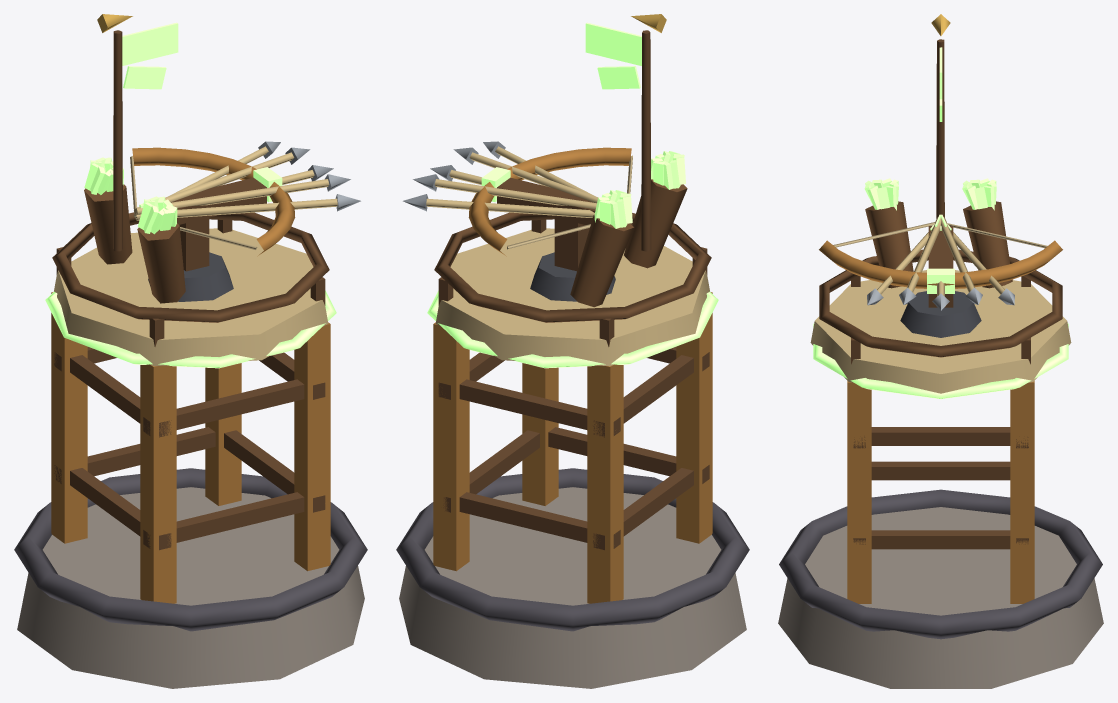
Rendered from tower_archer_arrowRain.glb.
3 renders of one model, left to right at view 1: azimuth 30°, elevation 25°; view 2: azimuth 150°, elevation 25°; view 3: azimuth 270°, elevation 25°, orthographic. The views are drawn at different scales.
Parts seen in each view (by area): view 1: base, deck, base_rim, post_wn, post_en, post_ws, rail, post_es, bow, beam_x_1_n, beam_x_0_n, deck_band (+17 smaller); view 2: base, deck, base_rim, post_ws, post_es, post_wn, rail, post_en, quiver_b, bow, beam_x_0_s, beam_x_1_s (+17 smaller); view 3: base, deck, base_rim, post_en, post_es, rail, bow, beam_z_0_e, beam_z_0_w, beam_z_1_e, swivel, deck_band (+7 smaller).
Boxes of the visible parts, <box> form: base: <box>17,487,364,688</box>; deck: <box>54,228,328,366</box>; base_rim: <box>14,468,367,631</box>; post_wn: <box>140,364,176,603</box>; post_en: <box>294,322,330,571</box>; post_ws: <box>51,292,87,543</box>; rail: <box>52,212,329,322</box>; post_es: <box>205,363,241,505</box>; bow: <box>132,147,295,256</box>; beam_x_1_n: <box>143,379,304,435</box>; beam_x_0_n: <box>143,492,304,548</box>; deck_band: <box>45,290,336,368</box>; base: <box>399,487,746,688</box>; deck: <box>435,228,709,366</box>; base_rim: <box>396,468,749,631</box>; post_ws: <box>587,364,623,603</box>; post_es: <box>433,322,469,571</box>; post_wn: <box>676,292,712,543</box>; rail: <box>434,212,711,322</box>; post_en: <box>522,363,558,505</box>; quiver_b: <box>570,214,633,307</box>; bow: <box>468,147,631,256</box>; beam_x_0_s: <box>459,492,620,548</box>; beam_x_1_s: <box>459,379,620,435</box>; base: <box>778,507,1103,688</box>; deck: <box>810,270,1071,393</box>; base_rim: <box>779,489,1102,639</box>; post_en: <box>847,381,871,603</box>; post_es: <box>1010,381,1034,603</box>; rail: <box>819,249,1062,357</box>; bow: <box>819,240,1062,288</box>; beam_z_0_e: <box>871,530,1010,549</box>; beam_z_0_w: <box>871,461,1010,480</box>; beam_z_1_e: <box>871,427,1010,445</box>; swivel: <box>900,291,981,337</box>; deck_band: <box>813,323,1068,399</box>.
Size of the model in its own units: 0.398 by 0.772 by 0.4.
